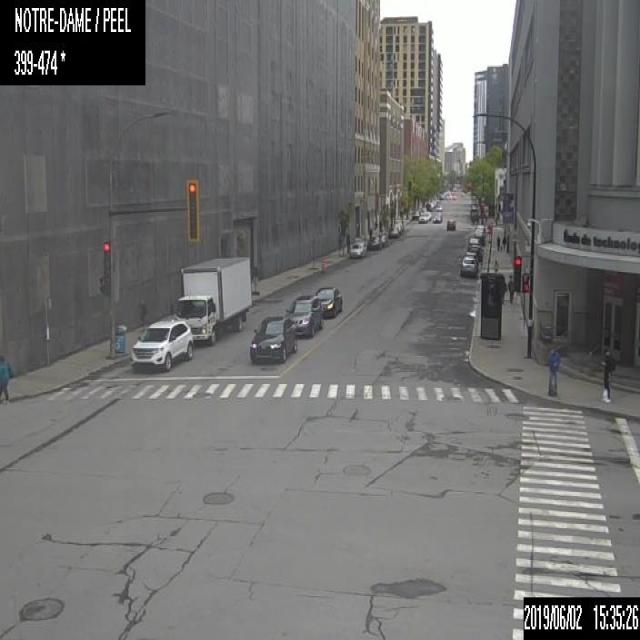construction: (251, 265, 259, 295), (318, 256, 324, 272)
pedestrian: (600, 347, 618, 402), (544, 345, 561, 395), (0, 349, 15, 399), (138, 297, 146, 328), (507, 272, 514, 302), (501, 272, 506, 302), (345, 232, 350, 253), (496, 233, 500, 251), (502, 234, 506, 251)
vehicle: (170, 256, 251, 346), (130, 320, 193, 371), (249, 316, 296, 363), (285, 293, 322, 337), (314, 285, 342, 317), (459, 256, 477, 277), (349, 240, 366, 256), (468, 247, 482, 261), (464, 250, 478, 264), (368, 235, 381, 249), (468, 237, 480, 250), (472, 231, 483, 245), (377, 233, 388, 246), (388, 226, 398, 237), (446, 219, 456, 230), (393, 223, 401, 236), (418, 212, 428, 222), (432, 212, 442, 222), (395, 221, 404, 230), (474, 224, 484, 232), (423, 211, 431, 219), (411, 209, 418, 218), (415, 206, 422, 214), (435, 203, 442, 210)
